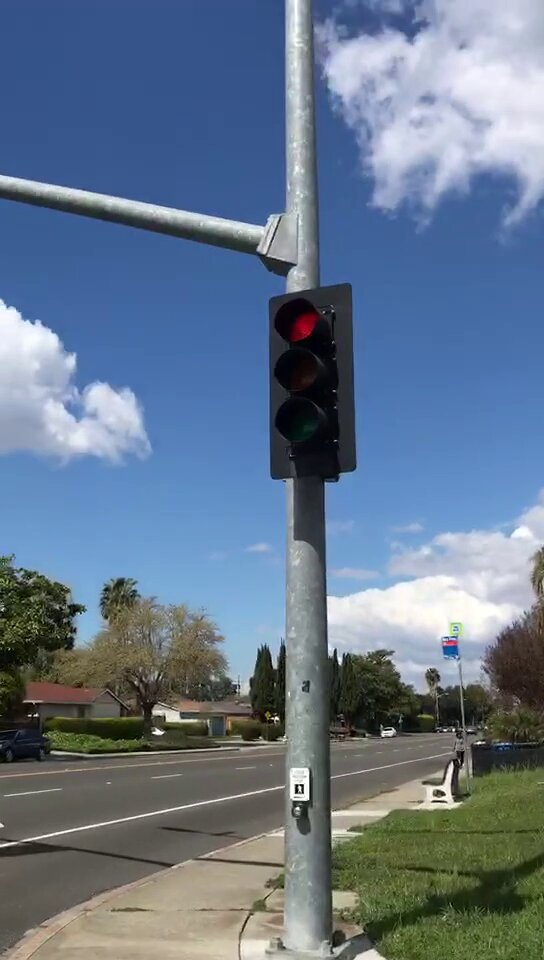red_light: (271, 296, 353, 474)
